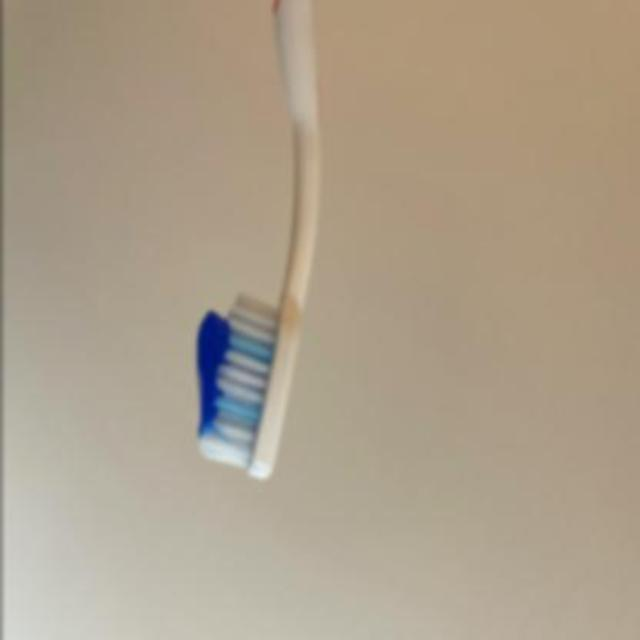toothbrush: (177, 0, 333, 498)
